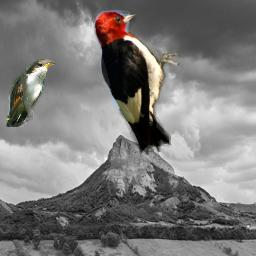Cuckoo: (6, 59, 55, 127)
Woodpecker: (93, 10, 182, 157)
